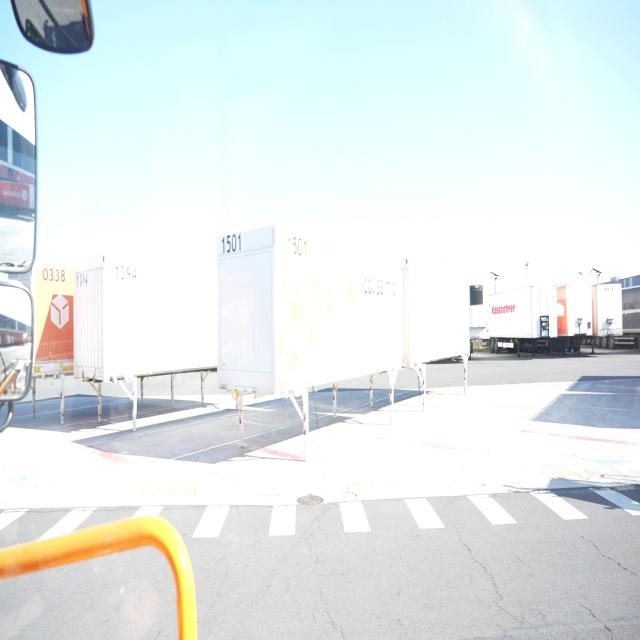Code: (220, 228, 244, 258), (40, 264, 68, 283)
